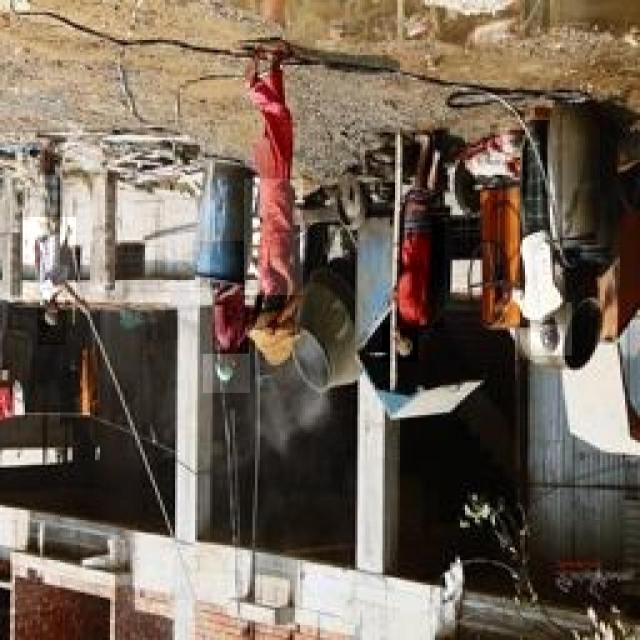Helmet: (511, 198, 566, 324), (244, 179, 303, 295), (394, 211, 445, 328), (200, 241, 249, 354), (23, 217, 76, 299), (531, 302, 572, 356), (203, 347, 250, 393), (246, 282, 294, 324), (38, 294, 66, 345), (382, 324, 418, 362)
